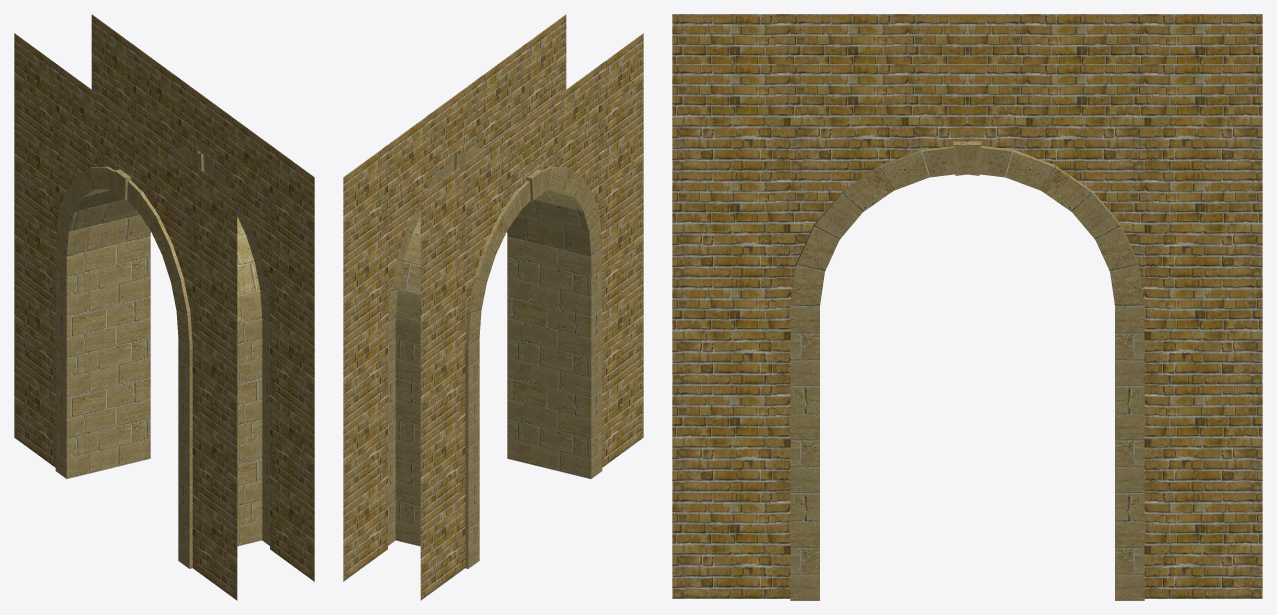
The model's file is zdDoorFrameArch10x2.fbx.
3 renders of one model, left to right at view 1: azimuth 30°, elevation 25°; view 2: azimuth 150°, elevation 25°; view 3: azimuth 270°, elevation 25°, orthographic. The views are drawn at different scales.
Parts seen in each view (by area): view 1: SketchUp; view 2: SketchUp; view 3: SketchUp.
Part boxes in pixels (bbox=[...]): SketchUp: bbox=[14, 14, 314, 600]; SketchUp: bbox=[343, 14, 643, 600]; SketchUp: bbox=[672, 14, 1262, 600].
Bounding box in the file's own units: 0.6985 × 3.05 × 3.05.
